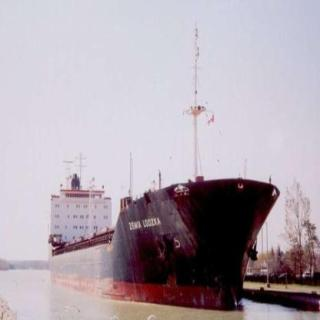Bulk Carrier: (61, 150, 278, 304)
